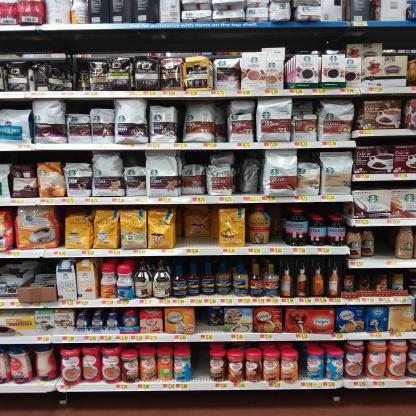Void: (179, 208, 215, 245), (375, 232, 399, 260), (192, 347, 209, 378), (196, 310, 223, 329), (295, 98, 313, 113), (67, 100, 87, 112), (184, 152, 203, 160), (128, 155, 140, 165)
